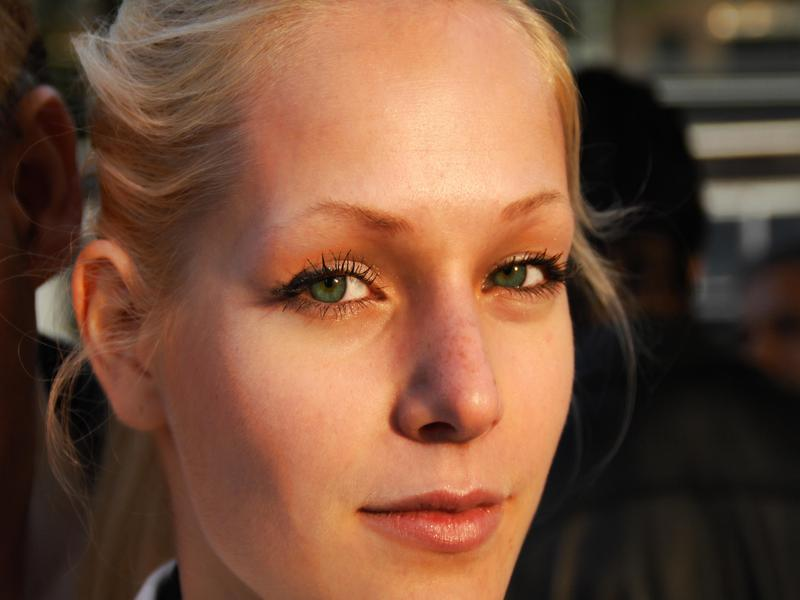person: (62, 1, 601, 600)
